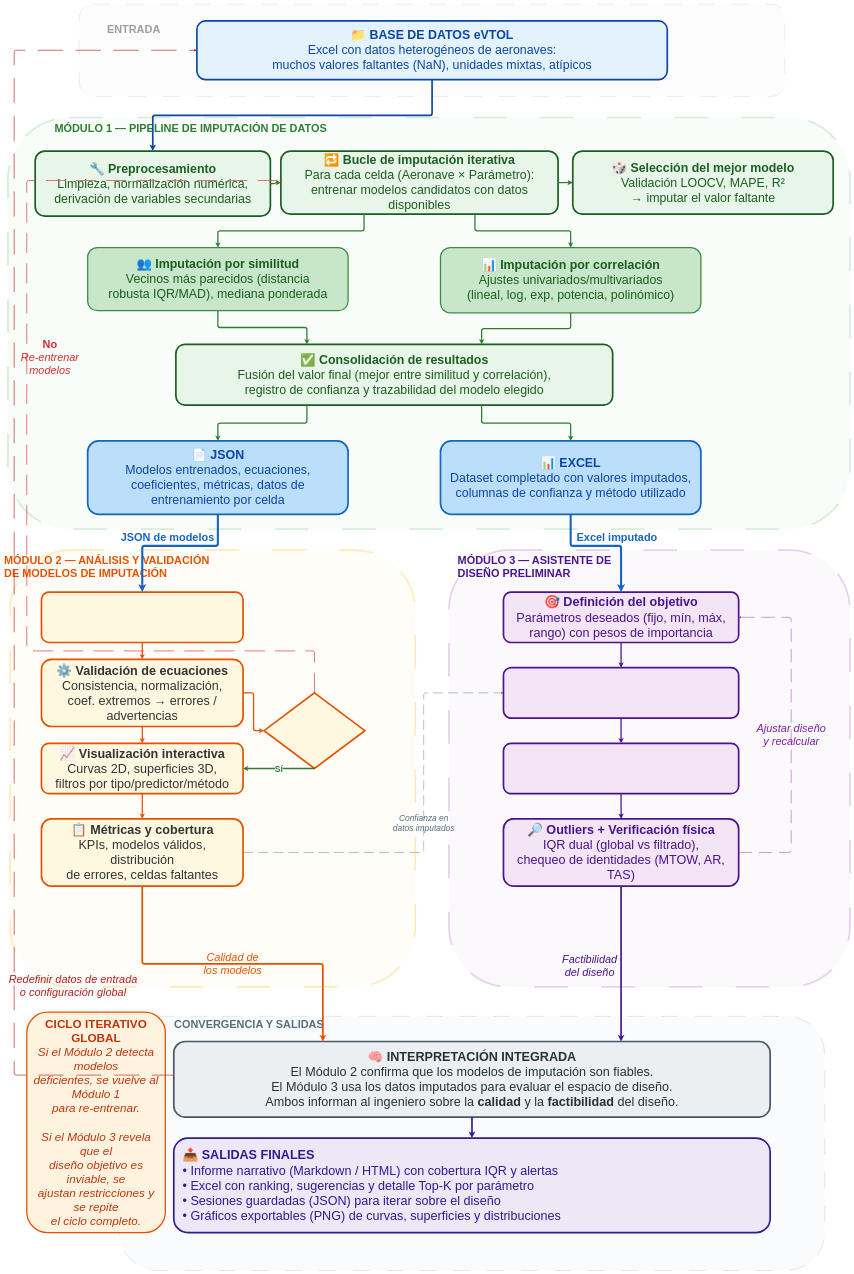
Some shapes in this 854 by 1274 pixel diagram are drawn without their labels. Here are the shapes that lost their labels. From the top down, the box of each, then its label:
(41, 591, 244, 643): 🔍 Carga del JSON Parseo de modelos por celda, detección de estructura
(503, 667, 739, 719): 📐 Ranking por similitud Distancia robusta ponderada, S = exp(−α · d) ∈ [0, 1]
(263, 692, 366, 769): ¿Modelos válidos?
(503, 742, 739, 794): 💡 Sugerencias Top-K Mediana ponderada, alertas IQR, histogramas, tendencias X–Y
